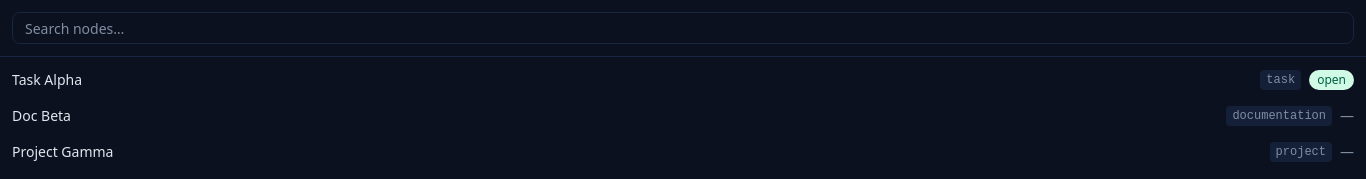
Test 9 — WikiSideNav "× clear" restores neighbours › positive: type query, click clear → input is empty and neighbours are back
This screenshot has width=1366, height=179.
Expected: the text "Task Alpha" is shown, [12,70,82,88]
# Type query.
Type "foo" into the search field labelled "Search nodes…".
click(683, 28); type("foo")  # box [12,12,1354,44]
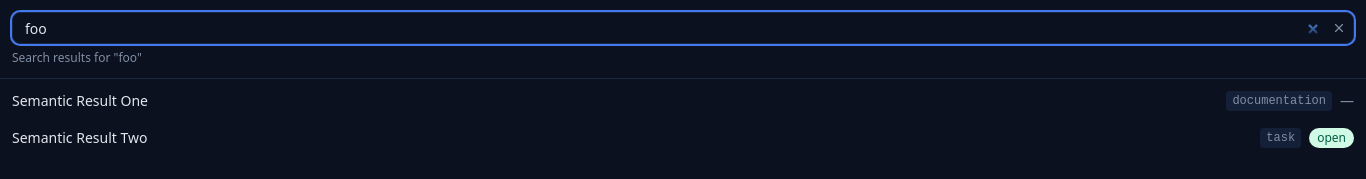
Now the text "Semantic Result One" is shown, box [12,91,148,110]
# Click clear.
Click the button named "Clear search".
click(1339, 28)  # box [1332,21,1346,35]
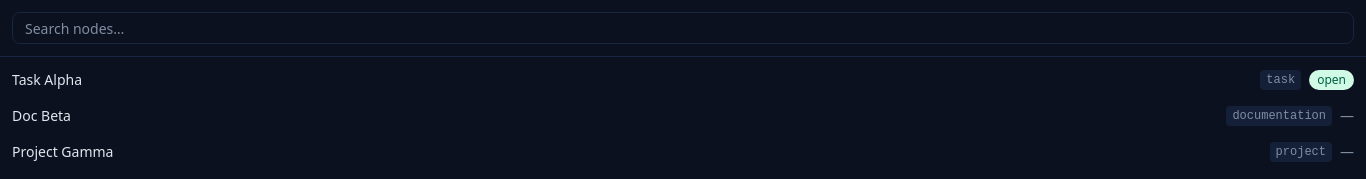
Now the search field labelled "Search nodes…" is empty, box [12,12,1354,44]
Now the text "Task Alpha" is shown, box [12,70,82,88]
